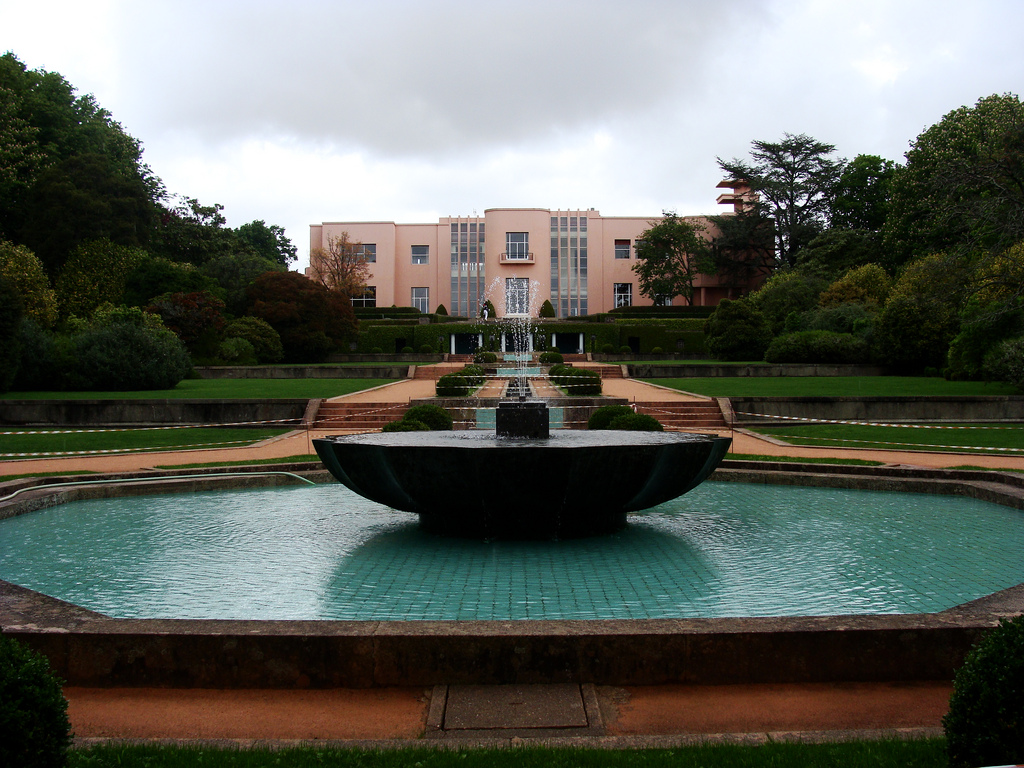serralves: (307, 170, 778, 323)
